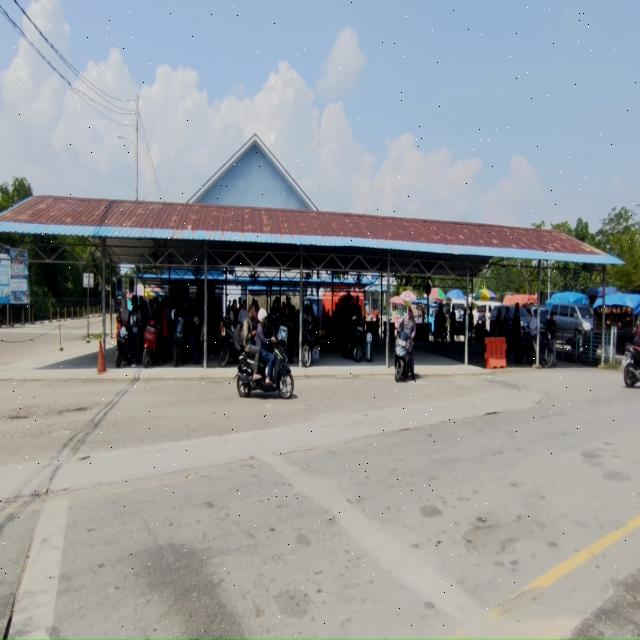Golongan II: (236, 327, 294, 399), (115, 313, 141, 368), (522, 327, 554, 368), (218, 318, 242, 368), (342, 315, 366, 363), (394, 330, 411, 382), (622, 343, 640, 388), (302, 317, 318, 367), (142, 318, 158, 368), (172, 317, 186, 367), (116, 323, 130, 368)
